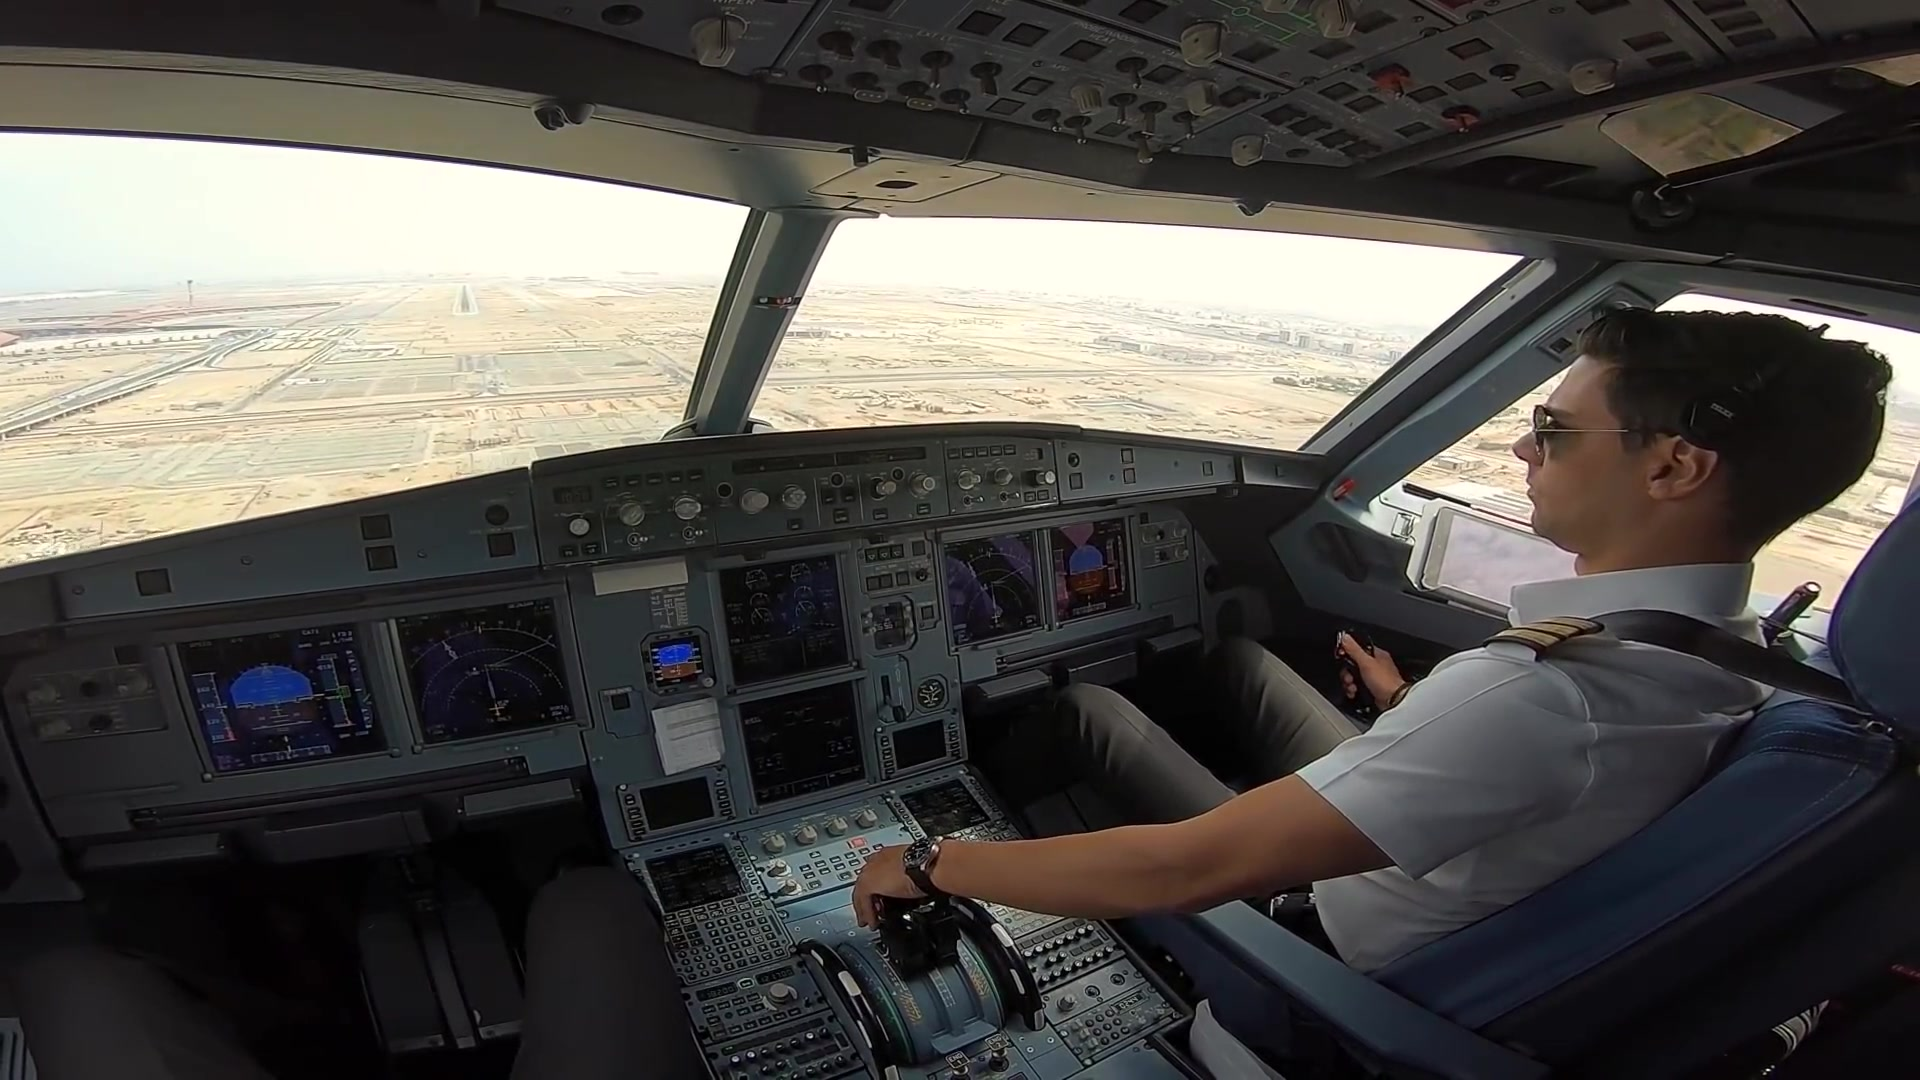runway: (448, 282, 480, 316)
